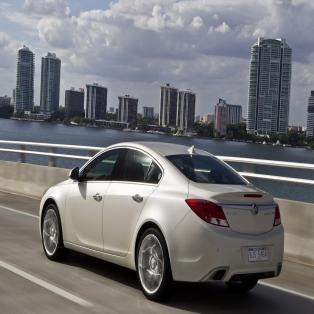Auto: (40, 140, 284, 300)
